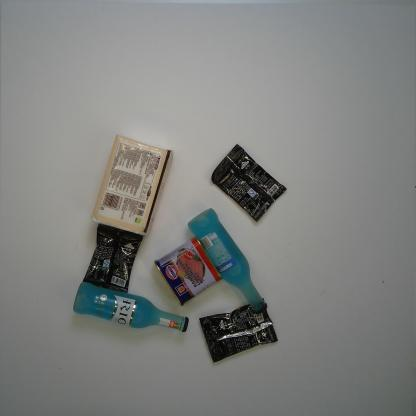Alcohol: (187, 207, 269, 315), (72, 281, 190, 334)
Canned Food: (153, 235, 223, 308)
Instant Drink: (211, 143, 288, 223), (198, 296, 279, 364), (82, 223, 144, 294)
Tissue: (90, 133, 174, 237)
